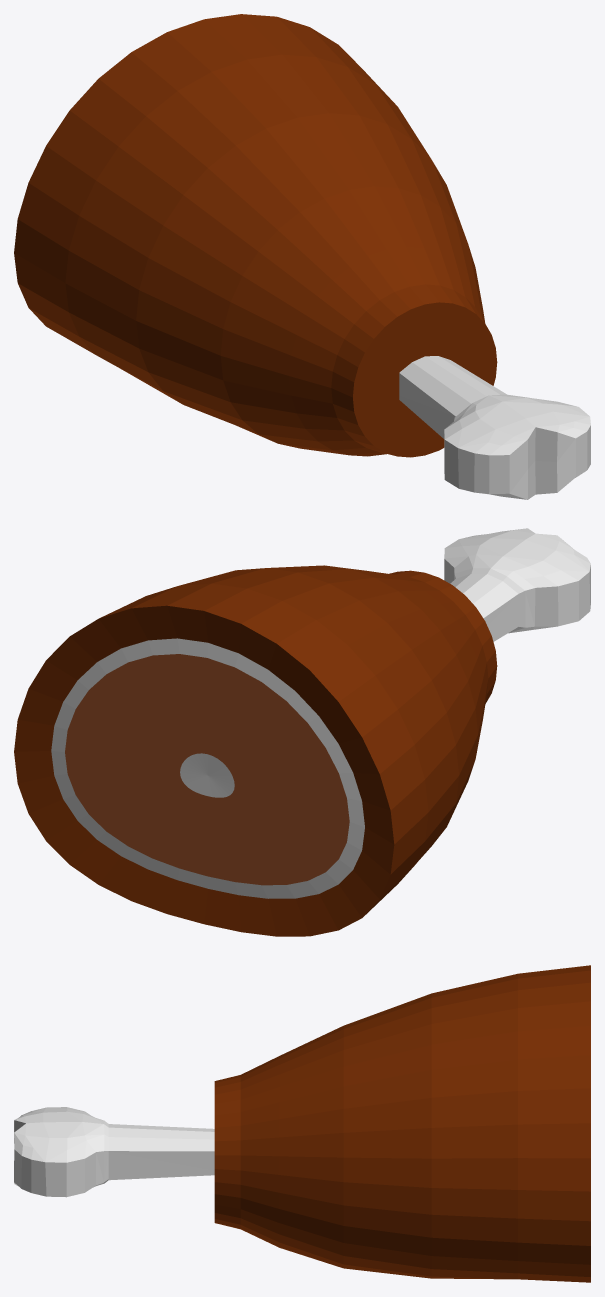
Rendered from Carne3.fbx.
3 views of the same model, one above another, from view 1: azimuth 30°, elevation 25°; view 2: azimuth 150°, elevation 25°; view 3: azimuth 270°, elevation 25° (orthographic). The views are drawn at different scales.
Visible parts, largest first — view 1: Carne2; view 2: Carne2; view 3: Carne2.
Part boxes in pixels (x1=…): Carne2: x1=14, y1=14, x2=590, y2=499; Carne2: x1=14, y1=528, x2=590, y2=936; Carne2: x1=14, y1=965, x2=590, y2=1282.
Size of the model in its own units: 89.65 by 72.48 by 138.
